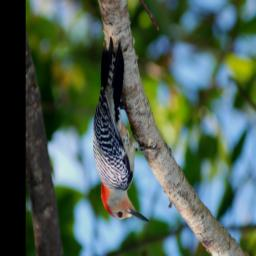Woodpecker: (93, 36, 160, 222)
